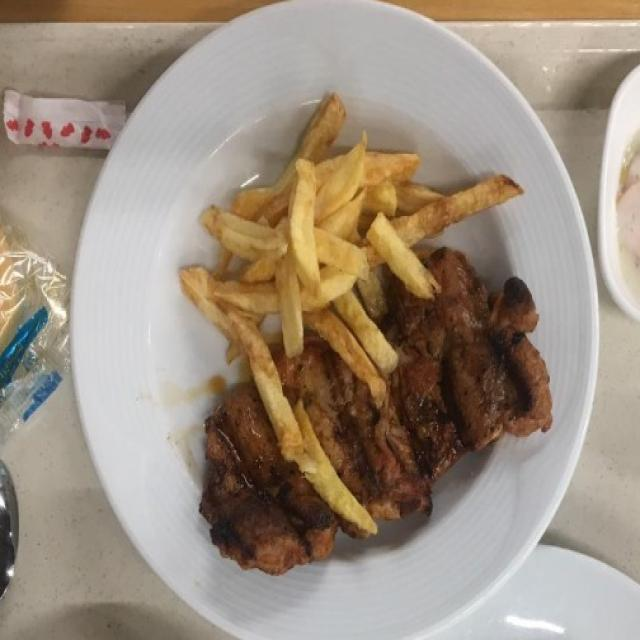ana_yemek: (70, 1, 592, 636)
